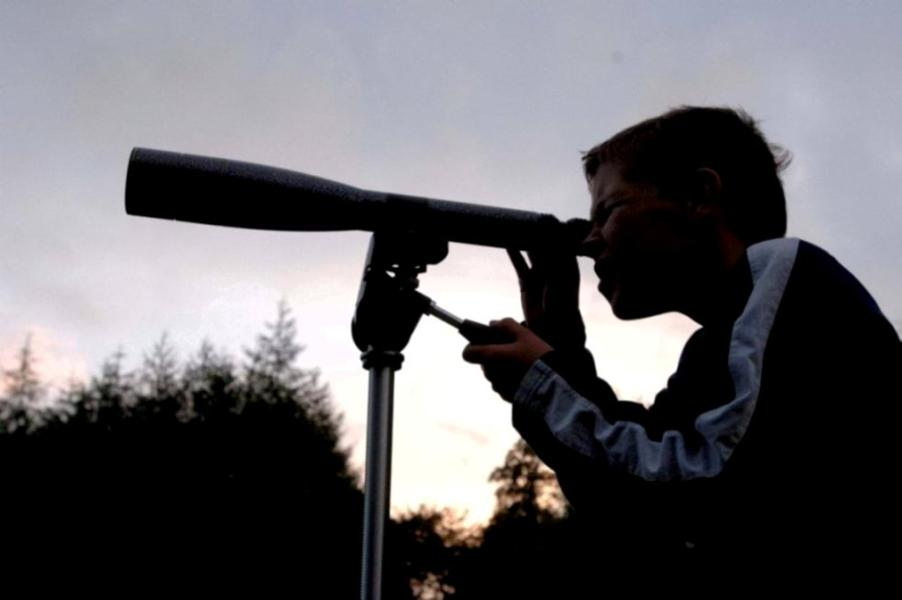person: (465, 101, 900, 598)
